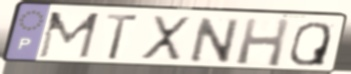H: (234, 17, 293, 69)
M: (35, 10, 103, 60)
N: (188, 15, 243, 64)
Q: (287, 20, 334, 68)
T: (103, 12, 142, 62)
X: (138, 14, 194, 64)
